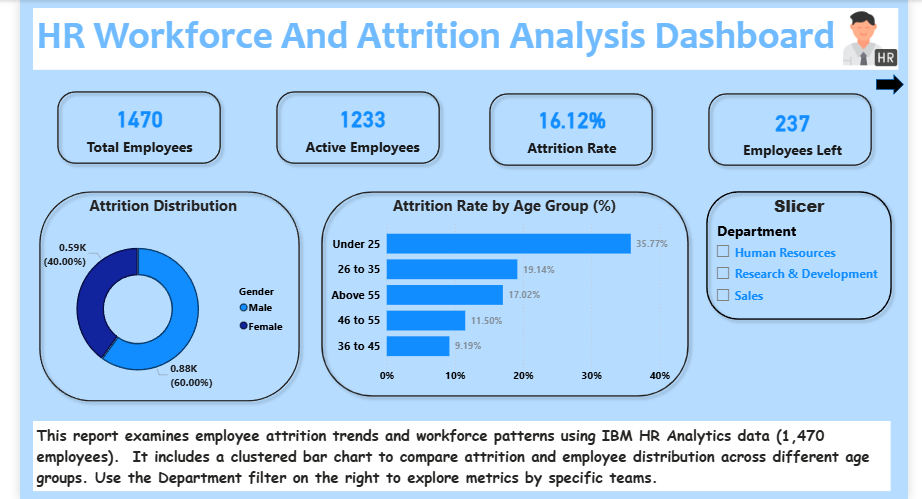

The dashboard page shown, as its layout file describes it:
{"tool":"powerbi","page":{"name":"Overview","canvas":[1280,720],"ordinal":0},"visuals":[{"type":"shape","box":[979.2,266.4,285.1,203],"z":0},{"type":"shape","box":[982.7,126,253.6,122.6],"z":1000},{"type":"shape","box":[666.9,126,253.6,122.6],"z":2000},{"type":"shape","box":[359.5,122.6,253.6,122.6],"z":3000},{"type":"shape","box":[45.4,122.6,253.6,122.6],"z":4000},{"type":"shape","box":[18.5,267.1,393.1,320.8],"z":5000},{"type":"shape","box":[424.8,266.4,547.2,313.9],"z":6000},{"type":"card","fields":{"Values":["ibm_hr_cleaned.Active Employees"]},"box":[352.8,122.4,280.8,122.4],"z":7000},{"type":"card","fields":{"Values":["ibm_hr_cleaned.Employees Left"]},"box":[972.6,131,280.5,114.2],"z":8000},{"type":"card","fields":{"Values":["ibm_hr_cleaned.Total Employees"]},"box":[31.7,122.4,280.8,122.4],"z":9000},{"type":"card","fields":{"Values":["ibm_hr_cleaned.Attrition Rate"]},"box":[655.1,126,278.8,119.3],"z":10000},{"type":"donutChart","title":"Attrition Distribution","fields":{"Y":["CountNonNull(ibm_hr_cleaned.AttritionFlag)"],"Category":["ibm_hr_cleaned.Gender"]},"box":[18.5,280.5,374.6,300.7],"z":11000},{"type":"slicer","title":"Slicer","fields":{"Values":["ibm_hr_cleaned.Department"]},"box":[990.7,280.8,262.1,184.3],"z":12000},{"type":"textbox","box":[18.7,11.5,1245.6,89.3],"z":13000},{"type":"textbox","box":[18.5,606.4,1234.6,100.8],"z":14000},{"type":"clusteredBarChart","title":"Attrition Rate by Age Group (%)","fields":{"Category":["ibm_hr_cleaned.AgeGroup"],"Y":["ibm_hr_cleaned.Attrition Rate"]},"box":[442.1,280.8,511.2,280.8],"z":15000},{"type":"image","box":[1185.1,4.3,79.2,102.2],"z":16000},{"type":"shape","box":[1232.6,106.6,40.3,30.2],"z":17000}]}

Visuals, with their boxes on the page's 1280x720 design canvas (x1, y1, x2, y2). These are canvas units, not pixel positions in the 922x499 screenshot, which may show the page scaled, cropped or inside an application window:
shape: (979, 266, 1264, 469)
shape: (983, 126, 1236, 249)
shape: (667, 126, 920, 249)
shape: (360, 123, 613, 245)
shape: (45, 123, 299, 245)
shape: (18, 267, 412, 588)
shape: (425, 266, 972, 580)
card - ibm_hr_cleaned.Active Employees: (353, 122, 634, 245)
card - ibm_hr_cleaned.Employees Left: (973, 131, 1253, 245)
card - ibm_hr_cleaned.Total Employees: (32, 122, 312, 245)
card - ibm_hr_cleaned.Attrition Rate: (655, 126, 934, 245)
"Attrition Distribution" donutChart: (18, 280, 393, 581)
"Slicer" slicer: (991, 281, 1253, 465)
textbox: (19, 12, 1264, 101)
textbox: (18, 606, 1253, 707)
"Attrition Rate by Age Group (%)" clusteredBarChart: (442, 281, 953, 562)
image: (1185, 4, 1264, 106)
shape: (1233, 107, 1273, 137)
